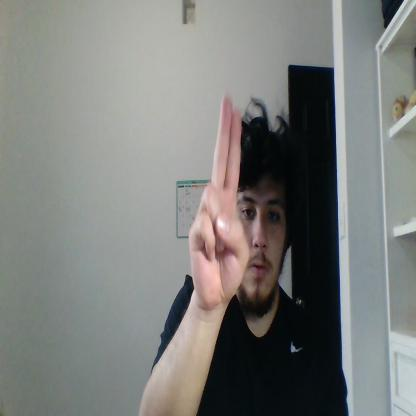U: (190, 93, 249, 310)
